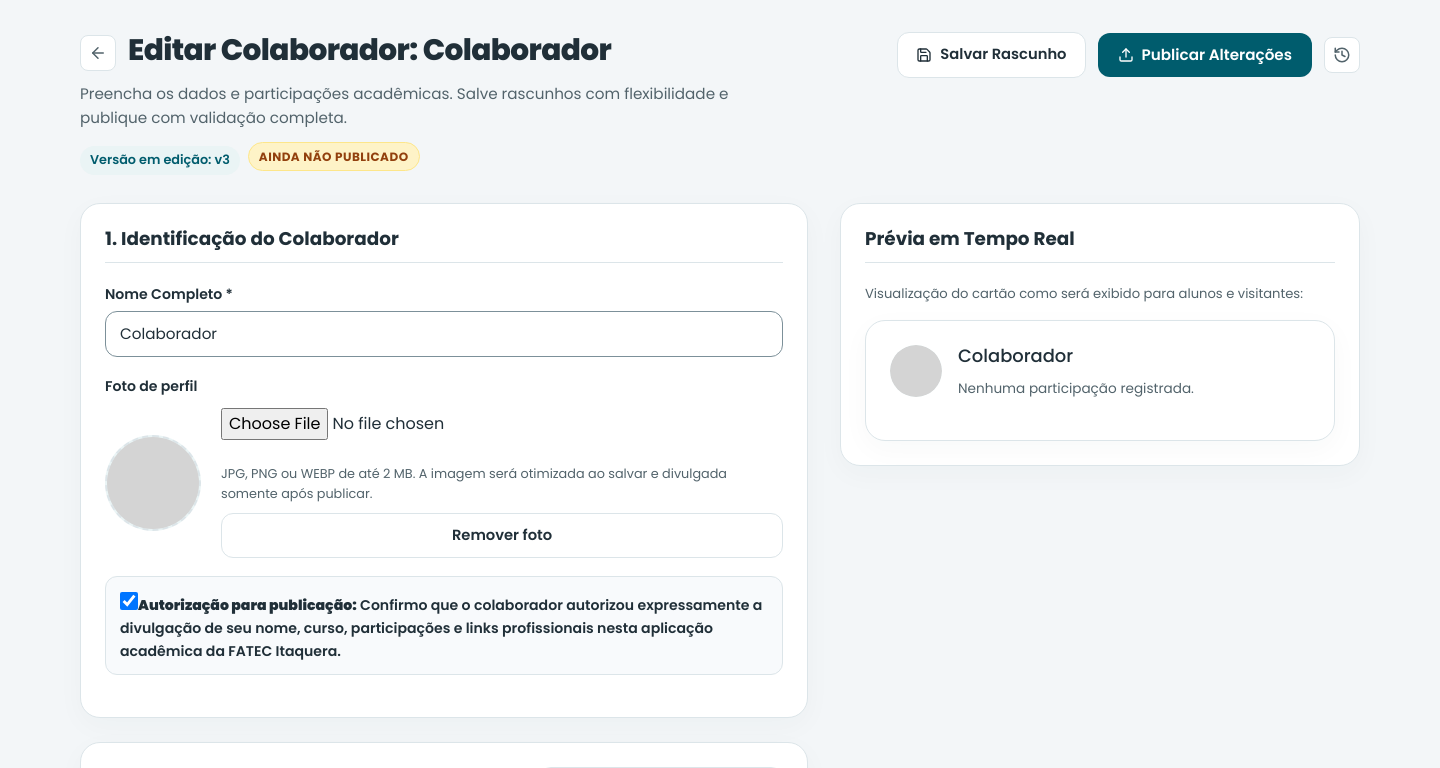
Test: credits photo form › removes a photo only when saving the draft
Expected: the file field labelled "Foto de perfil" is shown, [221, 408, 783, 452]
Click the button "Remover foto".
click(502, 536)  # box [221, 513, 783, 558]
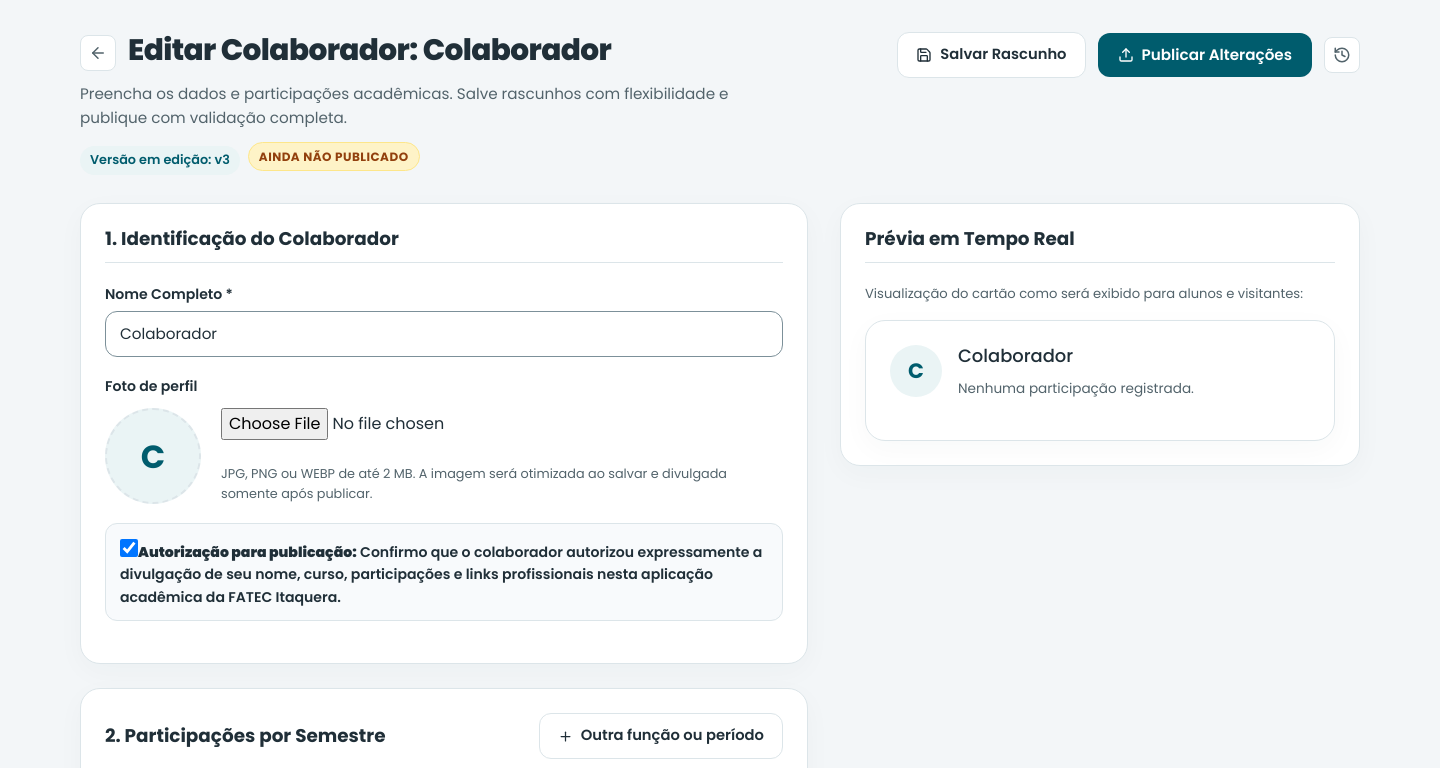
Click the button "Salvar Rascunho".
click(992, 55)  # box [897, 32, 1086, 78]
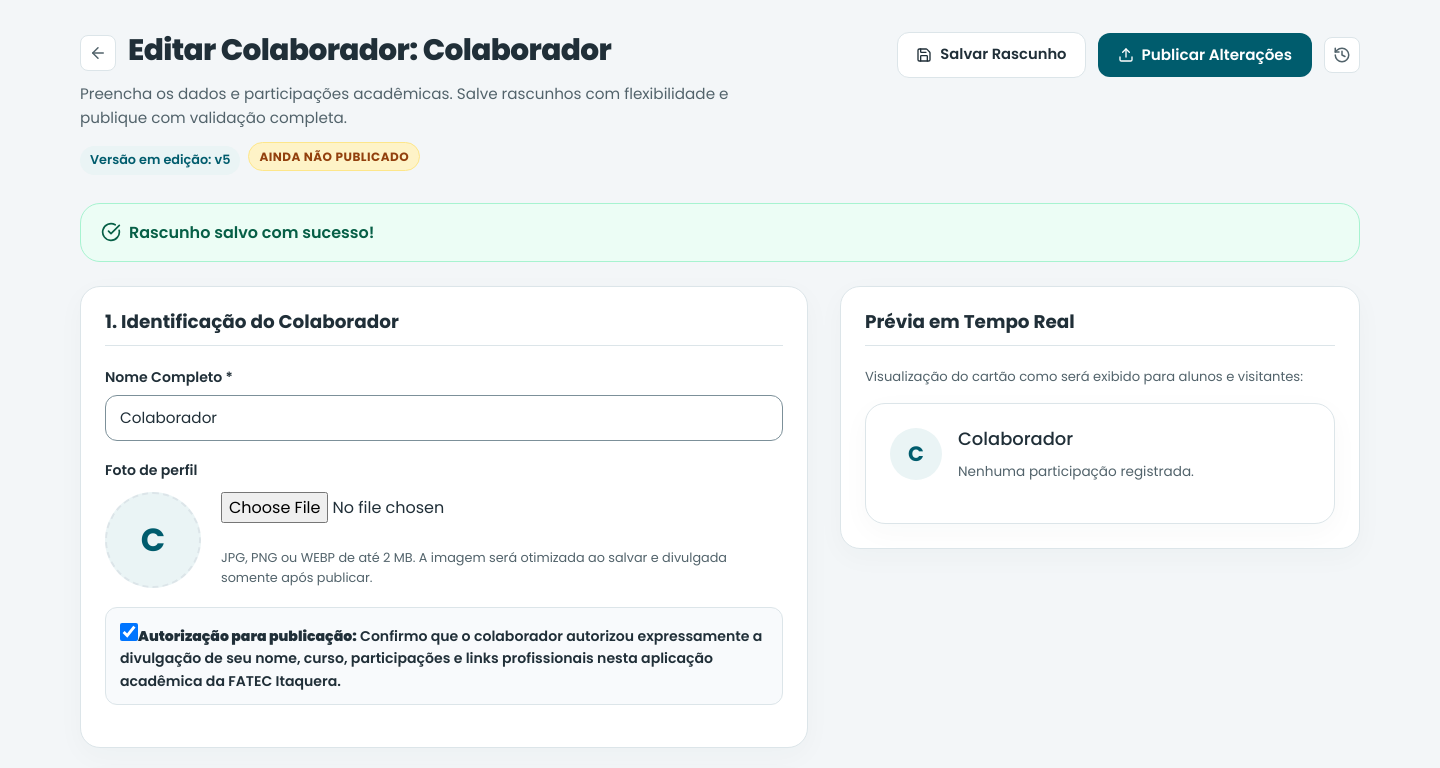
Now the text "Rascunho salvo com sucesso!" is shown, box [129, 220, 374, 245]
